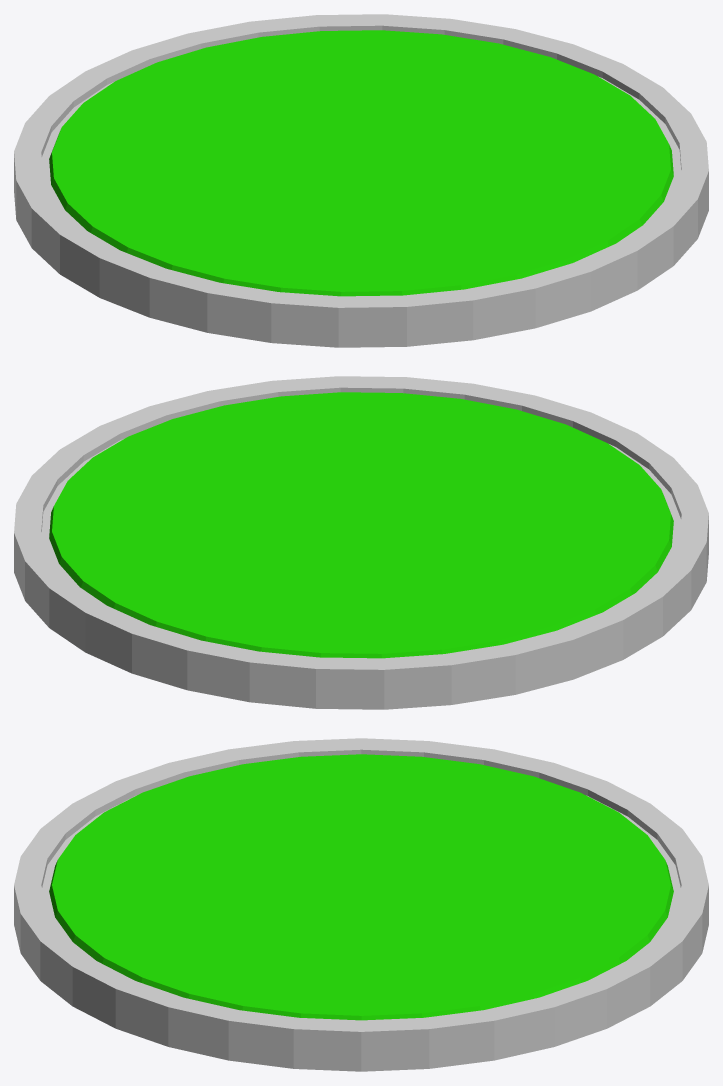
The model's file is spring.glb.
3 renders of one model, top to bottom at view 1: azimuth 30°, elevation 25°; view 2: azimuth 150°, elevation 25°; view 3: azimuth 270°, elevation 25°, orthographic.
Visible parts, largest first — view 1: lab.001; view 2: lab.001; view 3: lab.001.
Boxes of the visible parts, x1=… form: lab.001: x1=14, y1=14, x2=708, y2=347; lab.001: x1=14, y1=376, x2=708, y2=709; lab.001: x1=14, y1=738, x2=708, y2=1071.
Bounding box in the file's own units: 2 × 0.1264 × 2.
